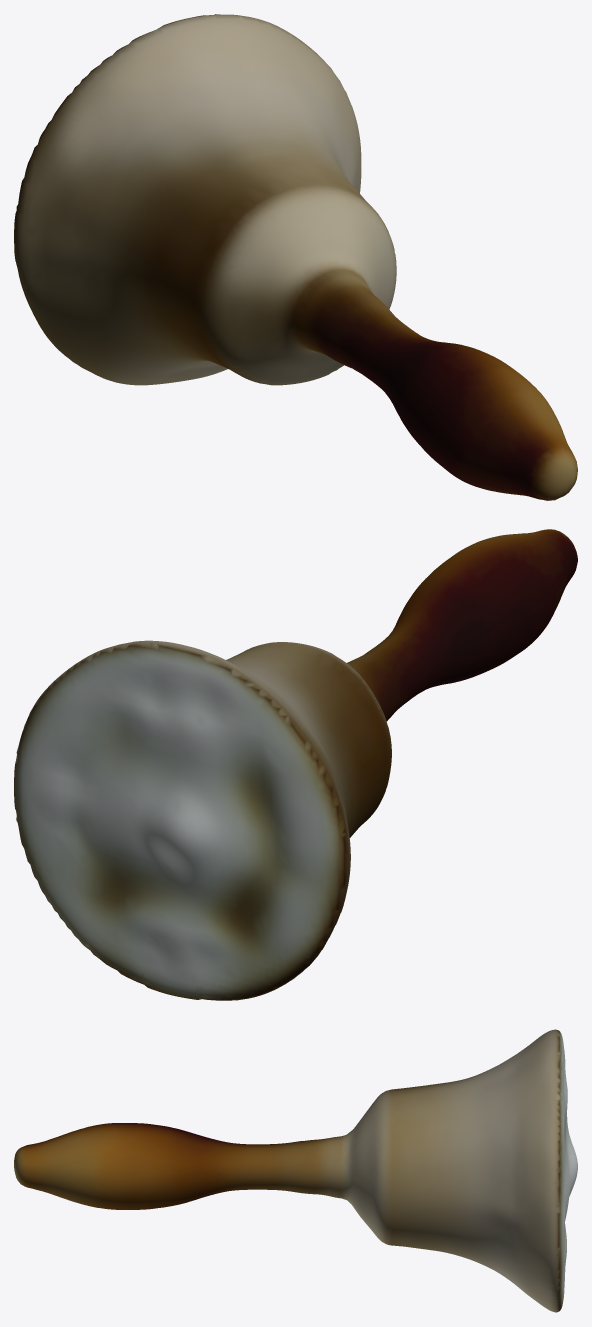
File: bell.glb
3 views of the same model, one above another, from view 1: azimuth 30°, elevation 25°; view 2: azimuth 150°, elevation 25°; view 3: azimuth 270°, elevation 25° (orthographic). The views are drawn at different scales.
Bounding box in the file's own units: 0.4989 × 0.4987 × 0.9995.
